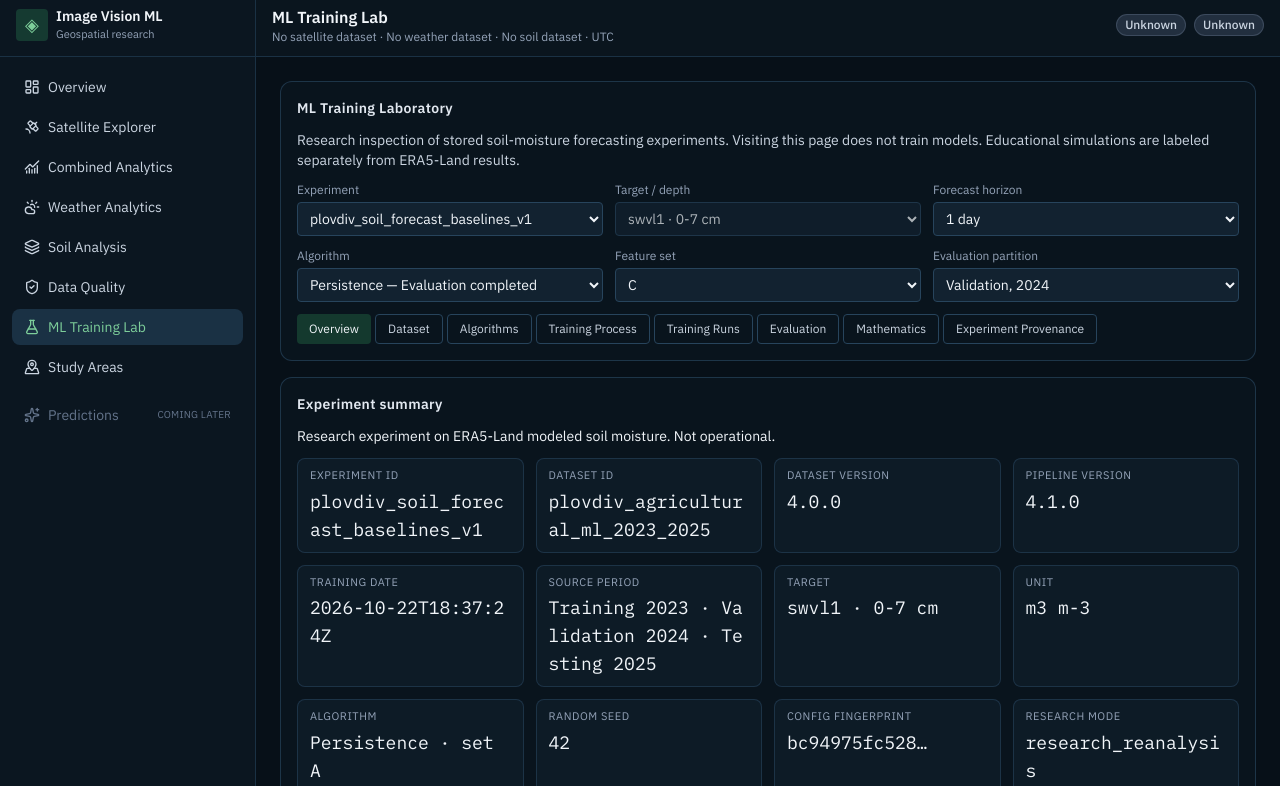
Test: ML Training Laboratory › lists telemetry runs and shows ridge diagnostics without a fabricated curve
Expected: the heading "Experiment summary" is shown, [297,394,443,414]
Click the tab "Training Runs" at (703, 329), box [654,314,753,344]
(page scrolled)
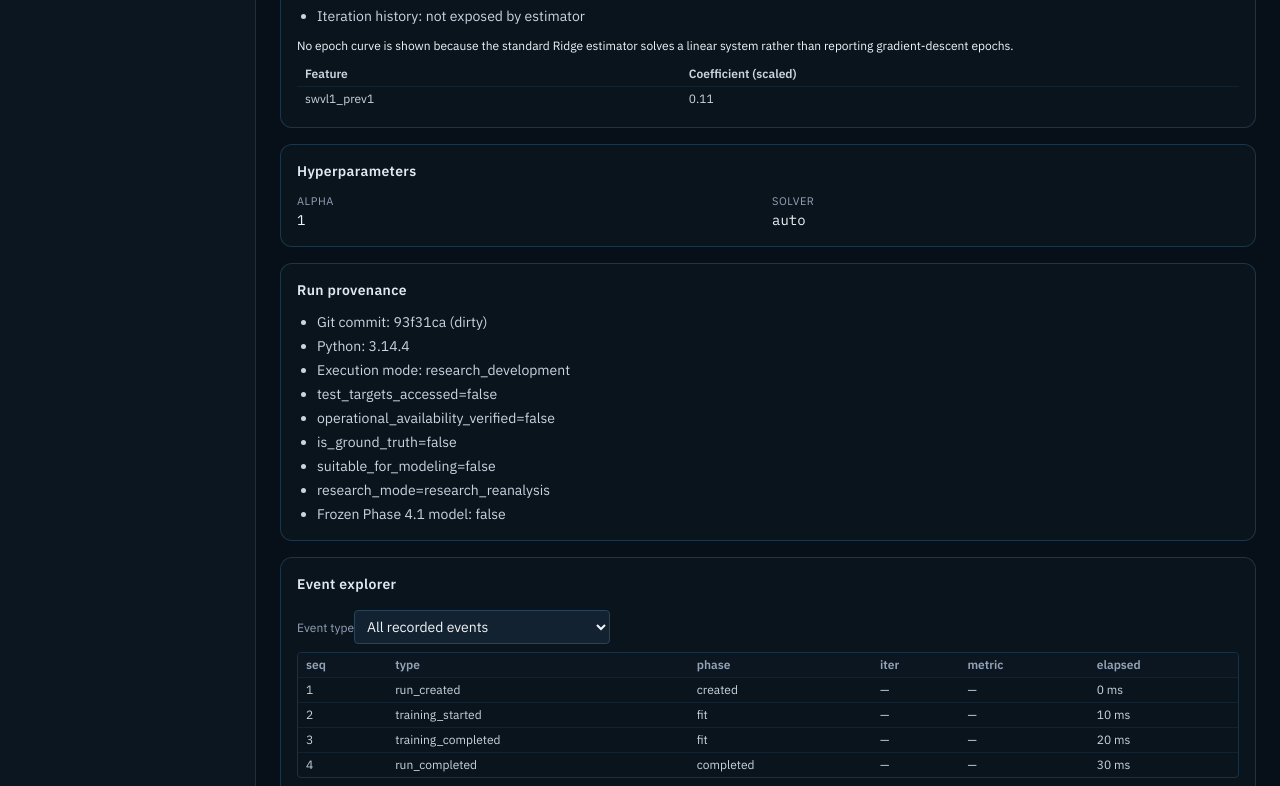
Expected: the list item "suitable_for_modeling=false" is shown, [317,456,496,474]
Expected: the list item "test_targets_accessed=false" is shown, [317,384,497,402]
